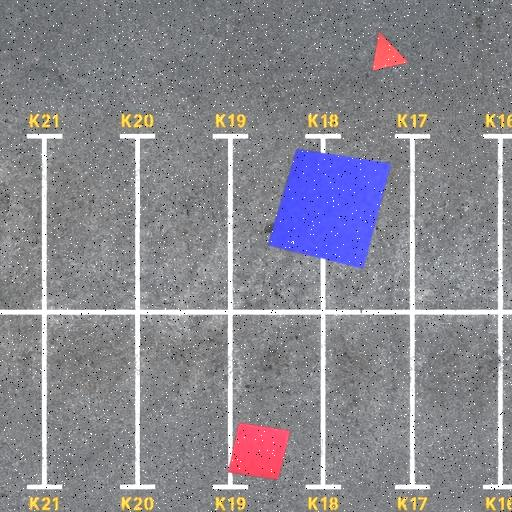BLUE_SQUARE: (267, 149, 392, 269)
RED_SQUARE: (228, 422, 290, 480)
